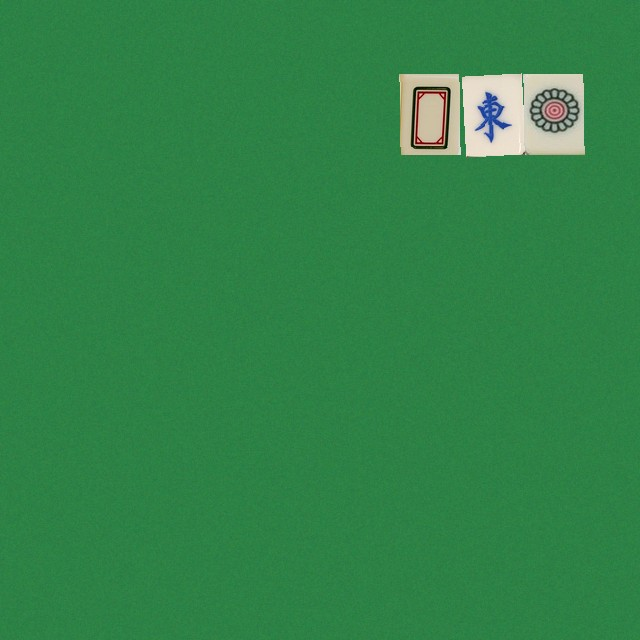tile: (399, 73, 459, 154), (461, 73, 521, 154), (523, 73, 583, 154)
